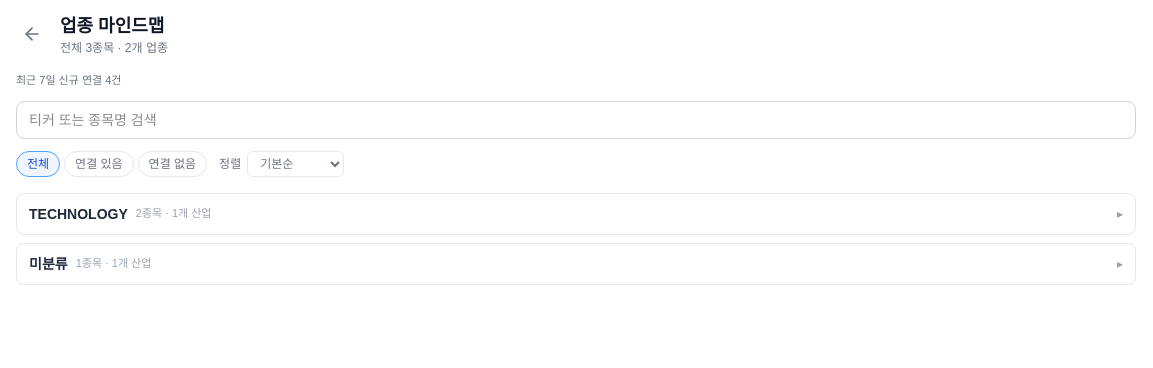
Test: MindmapTreeBoard (CS-P5-FE-CARD B3) › 필터 "연결 없음" → gate_conn_count>0 카드(NVDA/ZZZ) 숨김, AMD만 노출
The width and height of the screenshot is (1153, 368).
What coordinates should you click on to do the following:
click the button "연결 없음"
I would click on:
 (172, 164)
Its box is left=138, top=150, right=207, bottom=176.
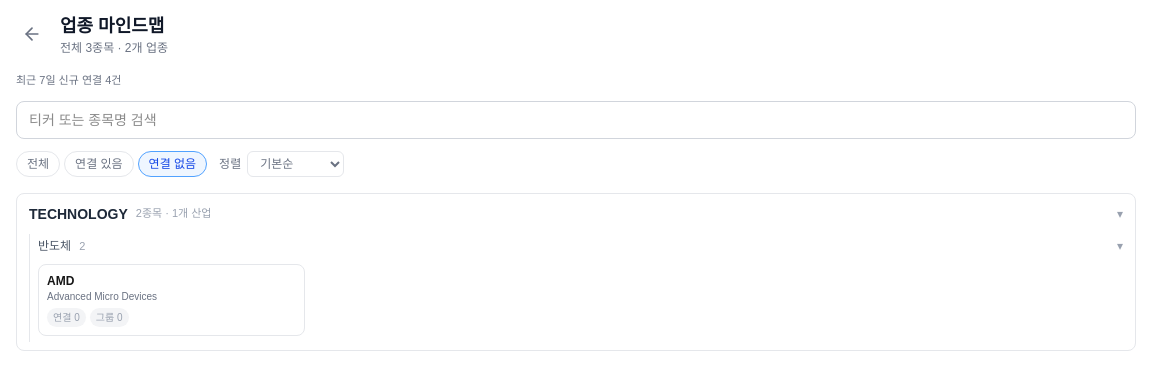
Expected: the text "AMD" is shown, left=47, top=274, right=74, bottom=288
